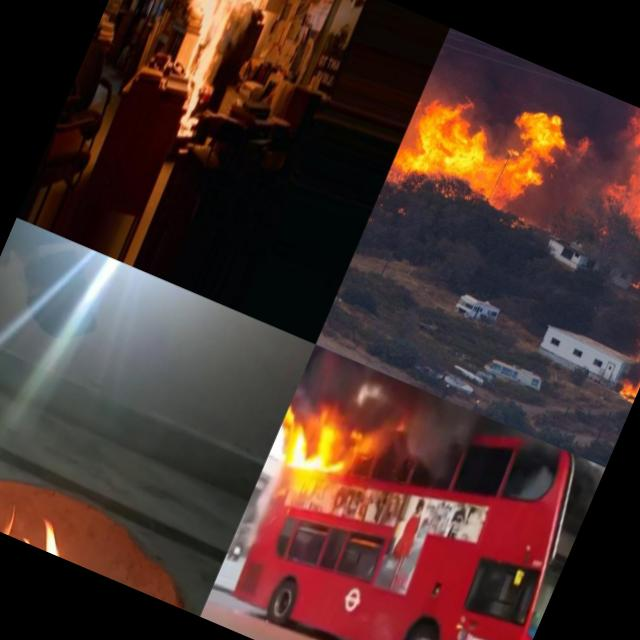fire: (366, 61, 575, 282), (152, 0, 277, 120), (584, 102, 640, 238), (278, 412, 358, 491), (611, 293, 640, 406), (36, 521, 91, 566), (0, 499, 41, 544)
smoke: (350, 373, 482, 498)
